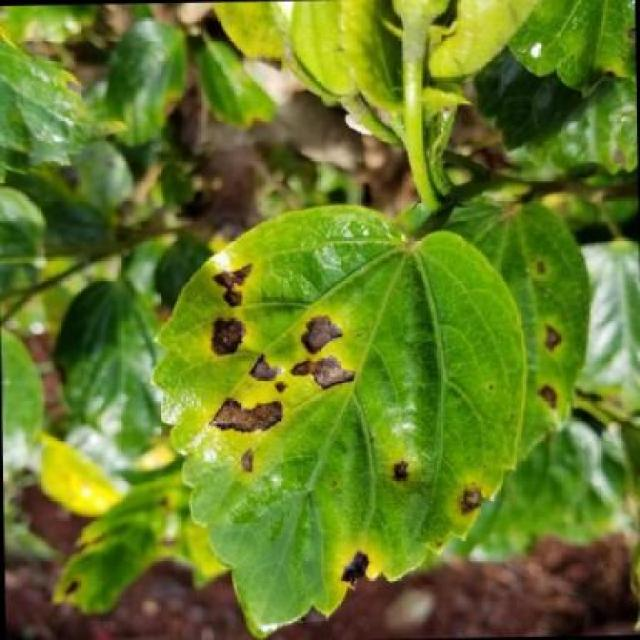Tomato leaf bacterial spot: (137, 200, 525, 625)
